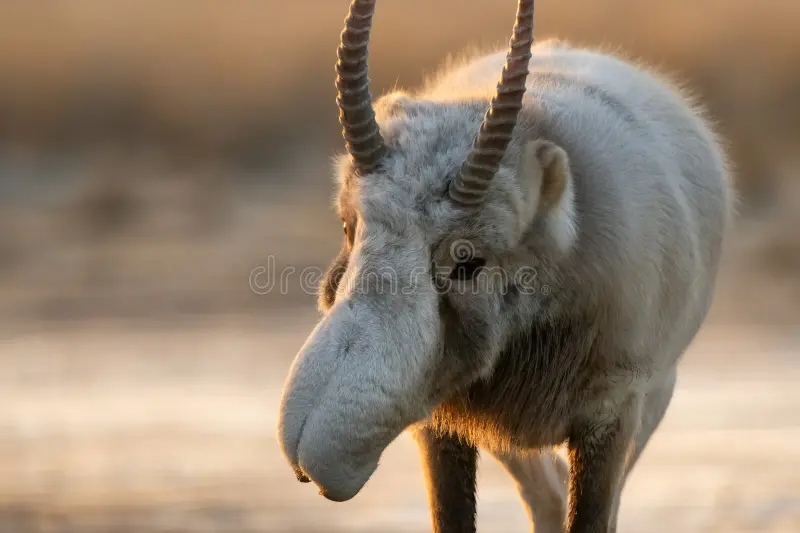saiga: (275, 2, 731, 533)
